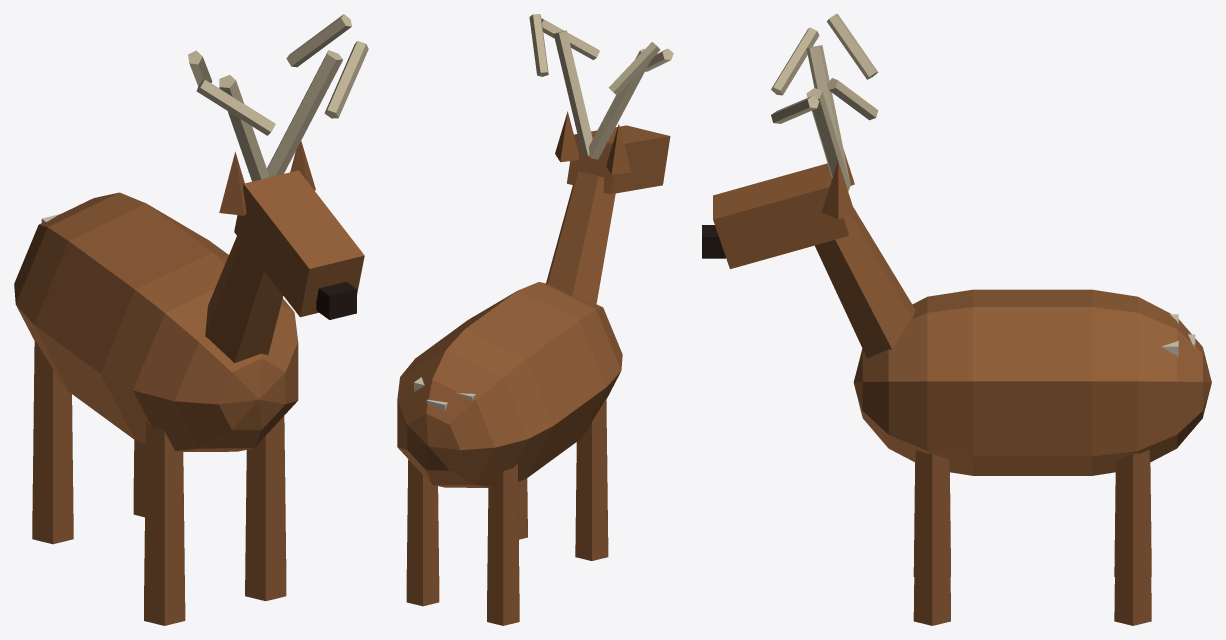
The model's file is rusa.glb.
The picture shows the model from 3 angles, left to right: view 1: azimuth 30°, elevation 25°; view 2: azimuth 150°, elevation 25°; view 3: azimuth 270°, elevation 25°; orthographic projection. The views are drawn at different scales.
Parts seen in each view (by area): view 1: kbs_rusa, object 3, object 2; view 2: kbs_rusa, object 3, object 2; view 3: kbs_rusa, object 3, object 2.
Part boxes in pixels (x1=…): kbs_rusa: x1=14, y1=192, x2=298, y2=625; object 3: x1=188, y1=14, x2=368, y2=319; object 2: x1=205, y1=236, x2=283, y2=362; kbs_rusa: x1=397, y1=282, x2=622, y2=625; object 3: x1=529, y1=14, x2=673, y2=194; object 2: x1=546, y1=171, x2=615, y2=304; kbs_rusa: x1=853, y1=289, x2=1211, y2=625; object 3: x1=702, y1=14, x2=878, y2=269; object 2: x1=815, y1=207, x2=915, y2=358.
Bounding box in the file's own units: 0.3958 × 1.3 × 1.09.
